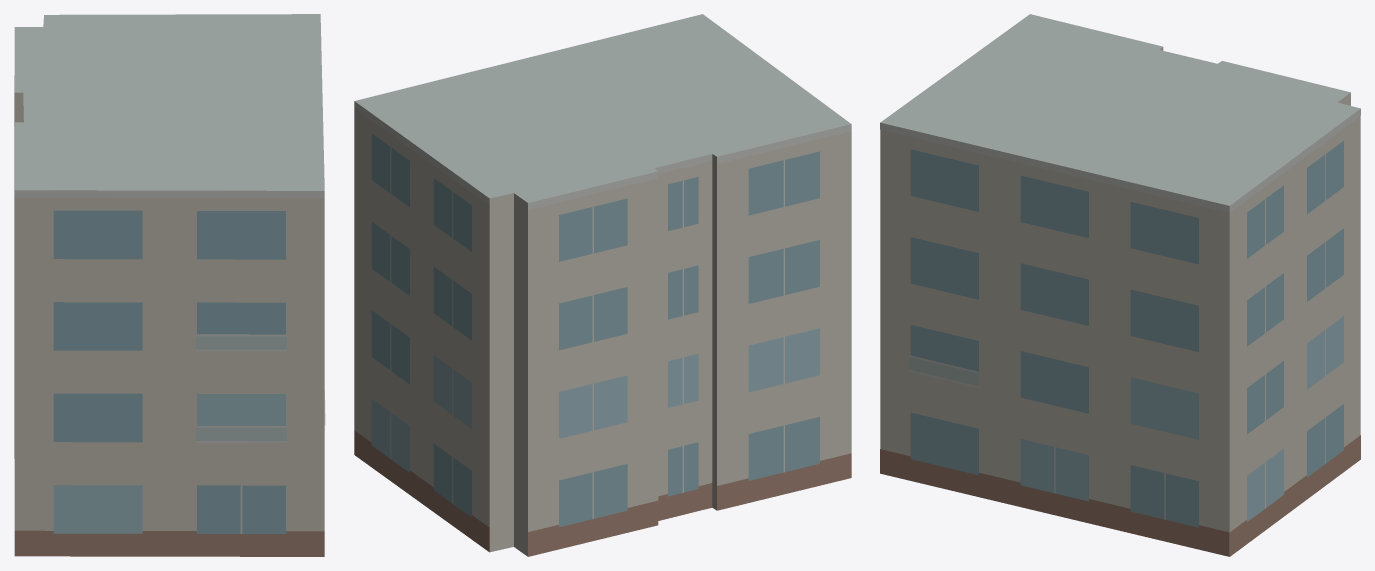
Rendered from survey-upis-32670168.glb.
The picture shows the model from 3 angles, left to right: view 1: azimuth 30°, elevation 25°; view 2: azimuth 150°, elevation 25°; view 3: azimuth 270°, elevation 25°; orthographic projection. The views are drawn at different scales.
Visible parts, largest first — view 1: survey-upis-32670168.tmp; view 2: survey-upis-32670168.tmp; view 3: survey-upis-32670168.tmp.
Boxes of the visible parts, x1,y1,x2,y2 form: survey-upis-32670168.tmp: (14,14,325,556); survey-upis-32670168.tmp: (354,14,851,556); survey-upis-32670168.tmp: (880,14,1360,556).
Bounding box in the file's own units: 14.29 × 12.18 × 15.12.
